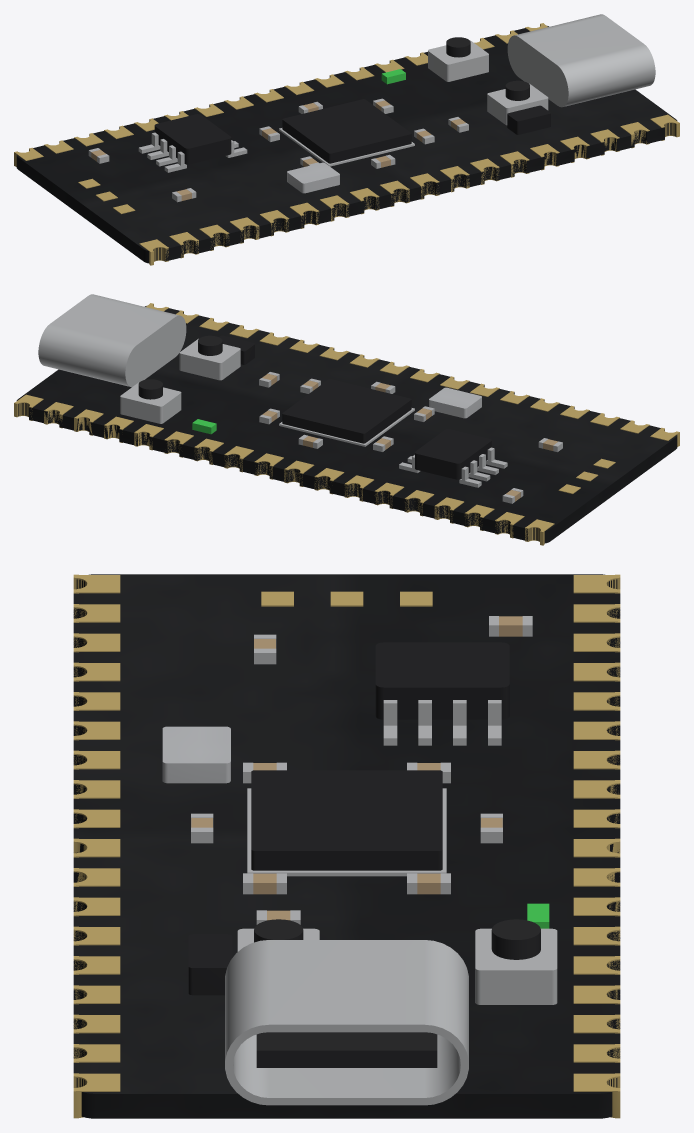
The model's file is RP2040_Microcontroller.glb.
The picture shows the model from 3 angles, top to bottom: view 1: azimuth 30°, elevation 25°; view 2: azimuth 150°, elevation 25°; view 3: azimuth 270°, elevation 25°; orthographic projection. The views are drawn at different scales.
Parts seen in each view (by area): view 1: Board, castellated edges, USB-C receptacle shell, RP2040 QFN-56, QSPI flash SOIC-8, Tact switch base 1, 12 MHz crystal, Tact switch base 2, 3.3 V regulator SOT-23, MCU exposed pad ring, Tact switch cap 1, Tact switch cap 2, Castellated pads, gold_1 (+1 smaller); view 2: Board, castellated edges, USB-C receptacle shell, RP2040 QFN-56, QSPI flash SOIC-8, Tact switch base 1, Tact switch base 2, 12 MHz crystal, MCU exposed pad ring, 3.3 V regulator SOT-23, Castellated pads, gold_2, Tact switch cap 1, Tact switch cap 2 (+3 smaller); view 3: Board, castellated edges, USB-C receptacle shell, RP2040 QFN-56, QSPI flash SOIC-8, USB-C tongue, Tact switch base 1, 12 MHz crystal, 3.3 V regulator SOT-23, MCU exposed pad ring, Tact switch cap 1, Castellated pads, gold_35, Castellated pads, gold_36 (+35 smaller).
Part boxes in pixels (x1=…): Board, castellated edges: x1=16, y1=26, x2=677, y2=263; USB-C receptacle shell: x1=507, y1=14, x2=655, y2=107; RP2040 QFN-56: x1=282, y1=99, x2=411, y2=163; QSPI flash SOIC-8: x1=154, y1=114, x2=231, y2=164; Tact switch base 1: x1=428, y1=40, x2=488, y2=81; 12 MHz crystal: x1=287, y1=162, x2=339, y2=193; Tact switch base 2: x1=487, y1=83, x2=548, y2=125; 3.3 V regulator SOT-23: x1=507, y1=105, x2=550, y2=134; MCU exposed pad ring: x1=279, y1=128, x2=414, y2=166; Tact switch cap 1: x1=446, y1=37, x2=470, y2=57; Tact switch cap 2: x1=505, y1=80, x2=529, y2=100; Castellated pads, gold_1: x1=139, y1=239, x2=168, y2=265; Board, castellated edges: x1=16, y1=306, x2=677, y2=543; USB-C receptacle shell: x1=38, y1=294, x2=186, y2=387; RP2040 QFN-56: x1=282, y1=379, x2=411, y2=443; QSPI flash SOIC-8: x1=415, y1=429, x2=491, y2=479; Tact switch base 1: x1=120, y1=382, x2=181, y2=423; Tact switch base 2: x1=179, y1=338, x2=240, y2=380; 12 MHz crystal: x1=429, y1=387, x2=481, y2=418; MCU exposed pad ring: x1=279, y1=408, x2=414, y2=446; 3.3 V regulator SOT-23: x1=219, y1=335, x2=254, y2=364; Castellated pads, gold_2: x1=525, y1=519, x2=554, y2=545; Tact switch cap 1: x1=138, y1=379, x2=162, y2=399; Tact switch cap 2: x1=198, y1=335, x2=222, y2=355; Board, castellated edges: x1=73, y1=574, x2=620, y2=1118; USB-C receptacle shell: x1=225, y1=940, x2=468, y2=1105; RP2040 QFN-56: x1=251, y1=770, x2=442, y2=870; QSPI flash SOIC-8: x1=375, y1=642, x2=509, y2=719; USB-C tongue: x1=256, y1=1032, x2=437, y2=1067; Tact switch base 1: x1=475, y1=928, x2=557, y2=1004; 12 MHz crystal: x1=162, y1=726, x2=230, y2=783; 3.3 V regulator SOT-23: x1=188, y1=934, x2=232, y2=995; MCU exposed pad ring: x1=247, y1=788, x2=446, y2=876; Tact switch cap 1: x1=491, y1=919, x2=540, y2=959; Castellated pads, gold_35: x1=73, y1=1073, x2=120, y2=1118; Castellated pads, gold_36: x1=573, y1=1073, x2=620, y2=1118.
Size of the model in its own units: 0.046 by 0.00431 by 0.02.
Materials: 8 (8 with a texture image).
